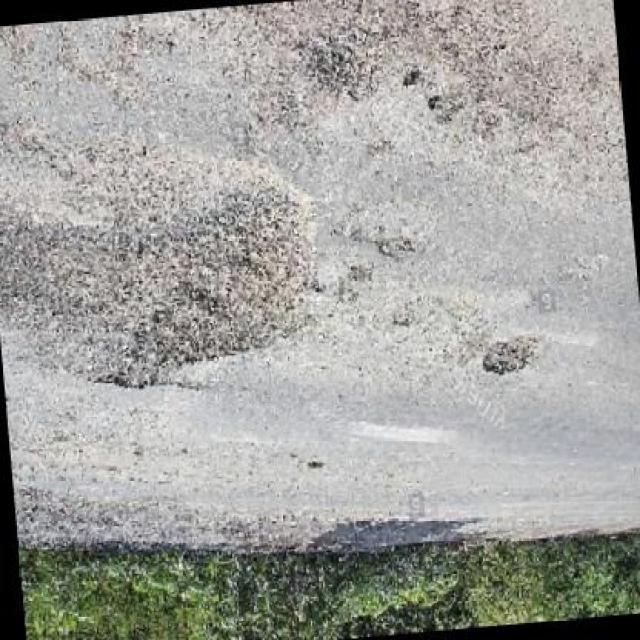pothole: (72, 161, 326, 401), (476, 332, 544, 386), (422, 93, 466, 129), (371, 234, 418, 264), (397, 68, 425, 90), (304, 457, 325, 475)
